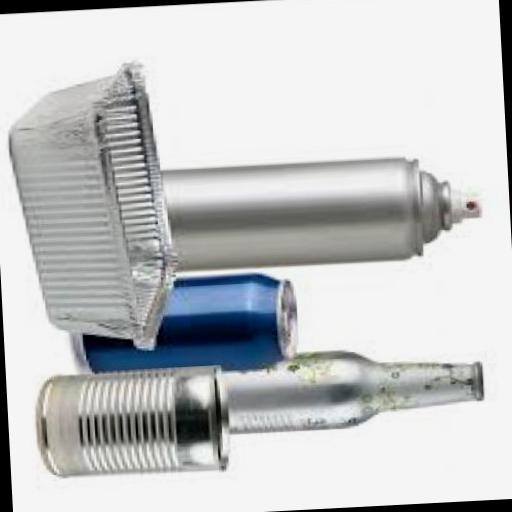metal: (10, 56, 185, 354), (163, 150, 454, 270), (72, 269, 303, 378), (220, 341, 490, 434), (36, 361, 232, 474)
